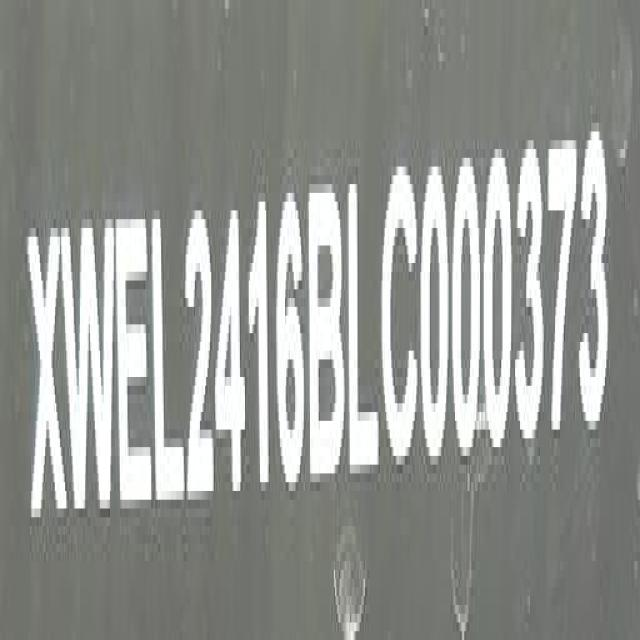0: (422, 156, 452, 467), (483, 147, 512, 460), (455, 152, 483, 465)
1: (250, 194, 274, 500)
2: (187, 204, 215, 517)
3: (581, 126, 614, 440), (516, 136, 547, 456)
4: (215, 199, 247, 510)
6: (276, 183, 308, 497)
7: (549, 130, 577, 450)
B: (309, 176, 345, 491)
C: (384, 166, 422, 479)
E: (118, 213, 154, 527)
L: (350, 171, 380, 489), (153, 202, 182, 524)
W: (67, 211, 118, 532)
X: (30, 215, 69, 535)
